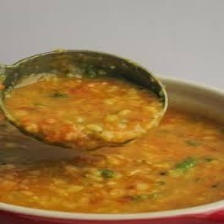dal: (0, 47, 224, 224)
